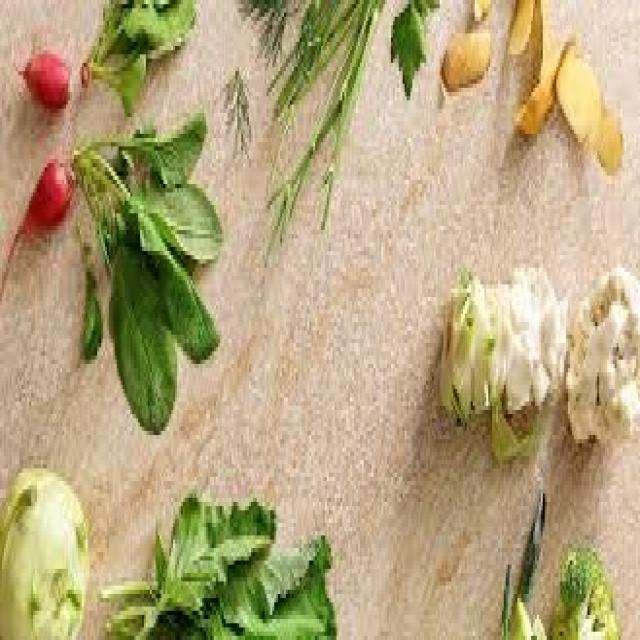food_waste: (27, 113, 220, 431), (440, 268, 638, 460), (97, 494, 335, 636), (270, 0, 383, 230), (506, 0, 621, 167), (502, 489, 619, 636), (0, 468, 88, 636), (82, 0, 193, 109), (391, 0, 438, 92), (444, 0, 490, 84), (23, 50, 68, 105)
